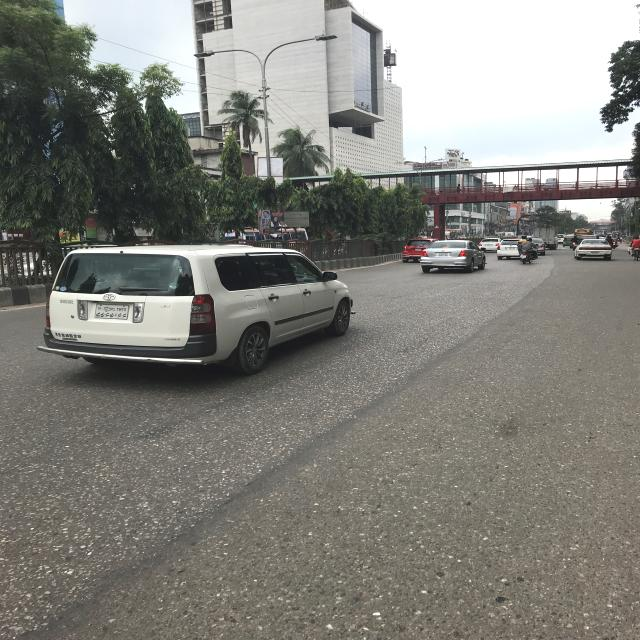red: (403, 237, 433, 262)
silver: (418, 240, 488, 272), (531, 238, 545, 254)
white: (41, 245, 356, 382), (575, 239, 612, 262), (498, 238, 526, 260), (479, 237, 501, 250)
